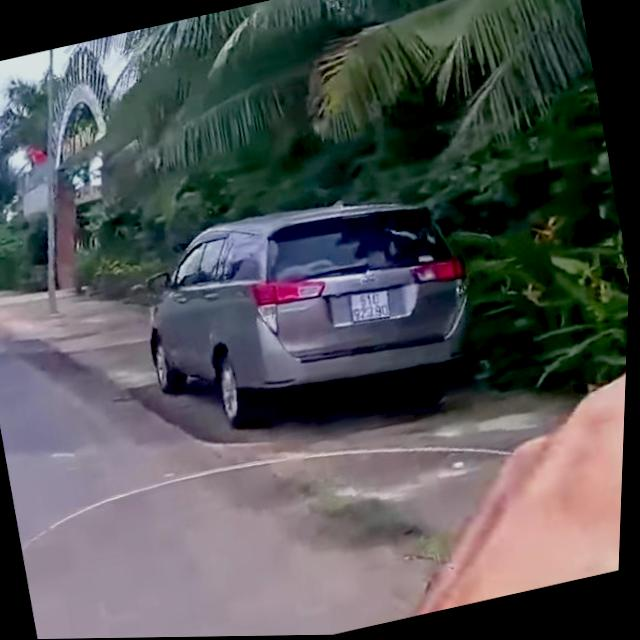car: (107, 170, 499, 473)
plate: (339, 278, 400, 332)
